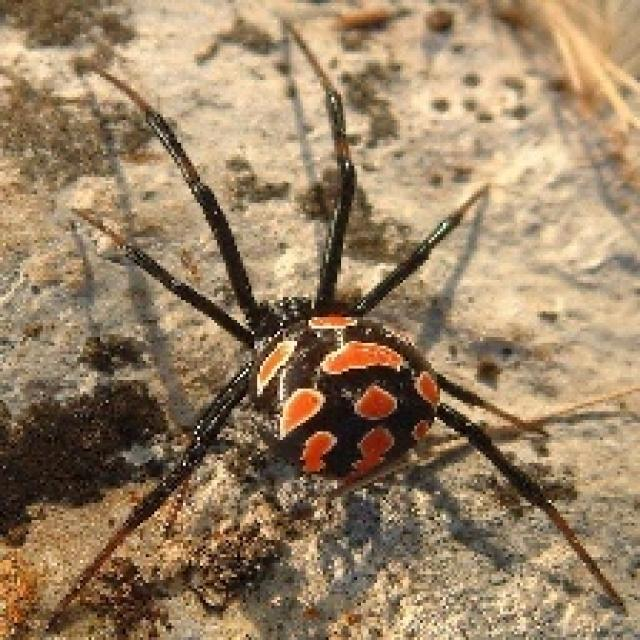Non venomous spider: (29, 43, 617, 640)
